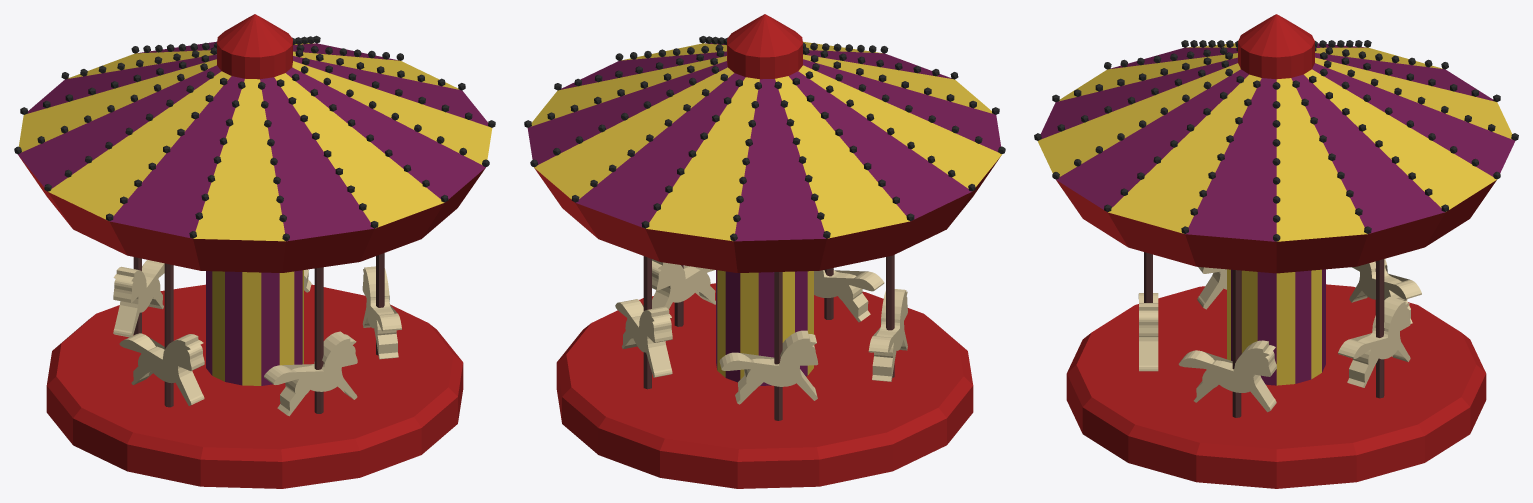
The model's file is Horse_Ride.fbx.
3 views of the same model, side by side, from view 1: azimuth 30°, elevation 25°; view 2: azimuth 150°, elevation 25°; view 3: azimuth 270°, elevation 25° (orthographic).
Visible parts, largest first — view 1: Horse_Ride, Horse, Lightbulb, Horse.004, Lightbulb.001, Pole, Horse.003, Horse.001; view 2: Horse_Ride, Horse.003, Lightbulb, Lightbulb.001, Pole, Horse.002, Horse.001, Horse, Horse.004; view 3: Horse_Ride, Horse.001, Lightbulb.001, Lightbulb, Horse.002, Pole, Horse.003, Horse, Horse.004.
Part boxes in pixels (x1,y1,x2,y2): Horse_Ride: (18,14,492,488); Horse: (264,331,357,416); Lightbulb: (20,35,489,238); Horse.004: (119,333,204,405); Lightbulb.001: (14,44,495,241); Pole: (133,253,384,413); Horse.003: (113,260,164,337); Horse.001: (362,266,401,359); Horse_Ride: (527,14,1001,488); Horse.003: (719,330,818,404); Lightbulb: (530,36,999,238); Lightbulb.001: (524,44,1005,241); Pole: (643,255,894,420); Horse.002: (615,299,672,377); Horse.001: (652,259,715,309); Horse: (814,269,884,322); Horse.004: (868,289,907,381); Horse_Ride: (1037,14,1515,488); Horse.001: (1178,340,1276,412); Lightbulb.001: (1052,40,1500,233); Lightbulb: (1034,46,1518,241); Horse.002: (1338,296,1410,387); Pole: (1144,252,1384,417); Horse.003: (1349,259,1421,323); Horse: (1138,293,1158,371); Horse.004: (1197,267,1226,309).
Size of the model in its own units: 1061 by 1061 by 933.
